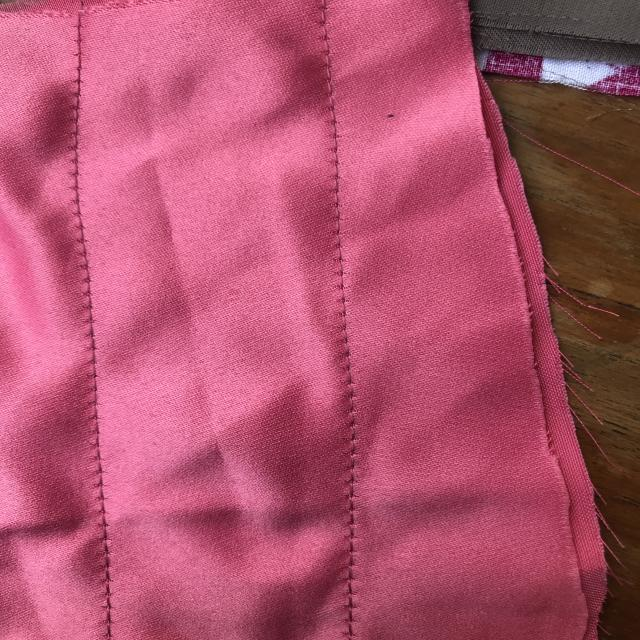good: (74, 290, 122, 500)
